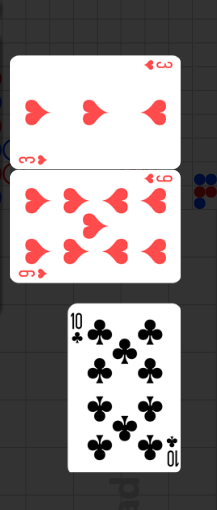10C: (163, 433, 179, 468)
3H: (142, 59, 173, 72)
9H: (18, 267, 49, 279)
